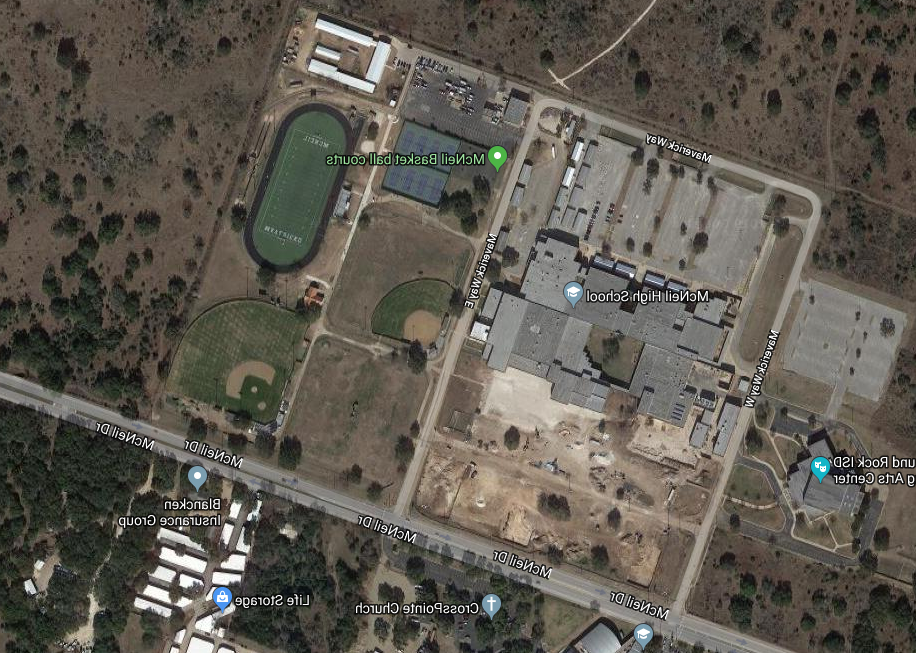baseball: (163, 294, 324, 428), (353, 286, 486, 367)
football: (207, 99, 357, 271)
